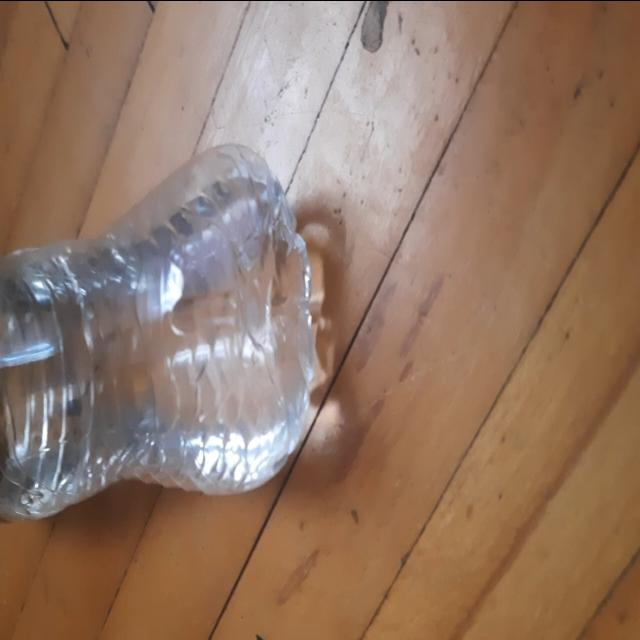Plastic: (0, 141, 332, 522)
